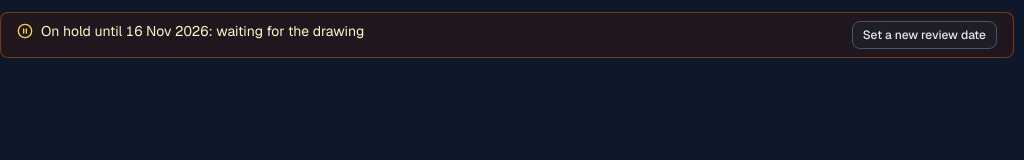
HoldBanner (Christoph 2026-11-02) › sets a new date with a reason
Later steps or results of the test are not shown.
Click the button with test id "hold-move".
click(924, 35)  # box x1=852 y1=21 x2=997 y2=49
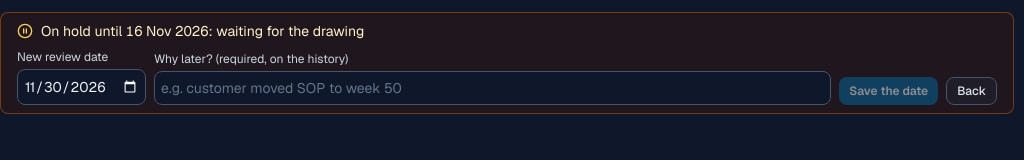
Expected: the button with test id "hold-move-save" is disabled, x1=839 y1=77 x2=938 y2=105
